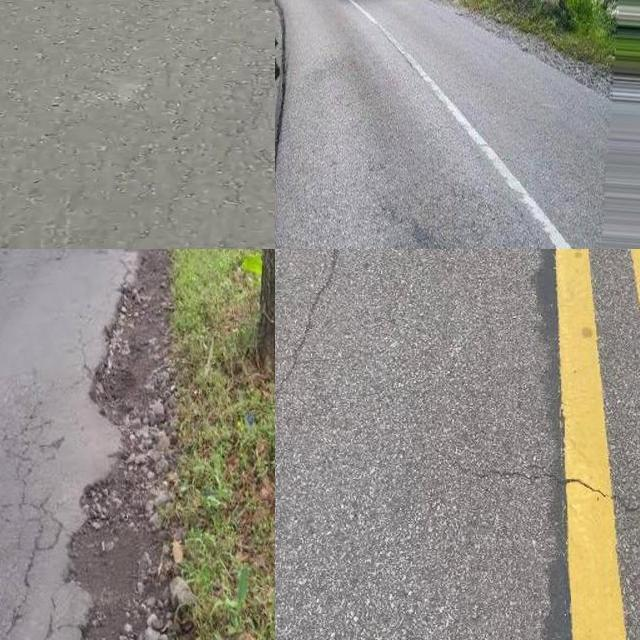Melintang: (444, 457, 640, 521)
Memanjang: (275, 249, 346, 435)
Pinggir: (51, 249, 192, 640)
